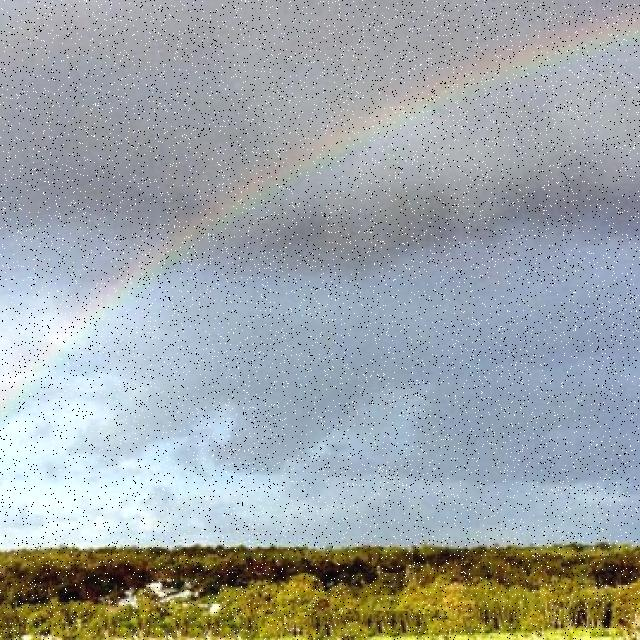Ns: (1, 39, 640, 499)
